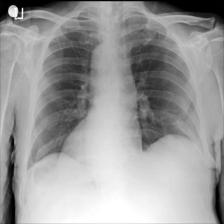normal: (23, 10, 204, 170)
